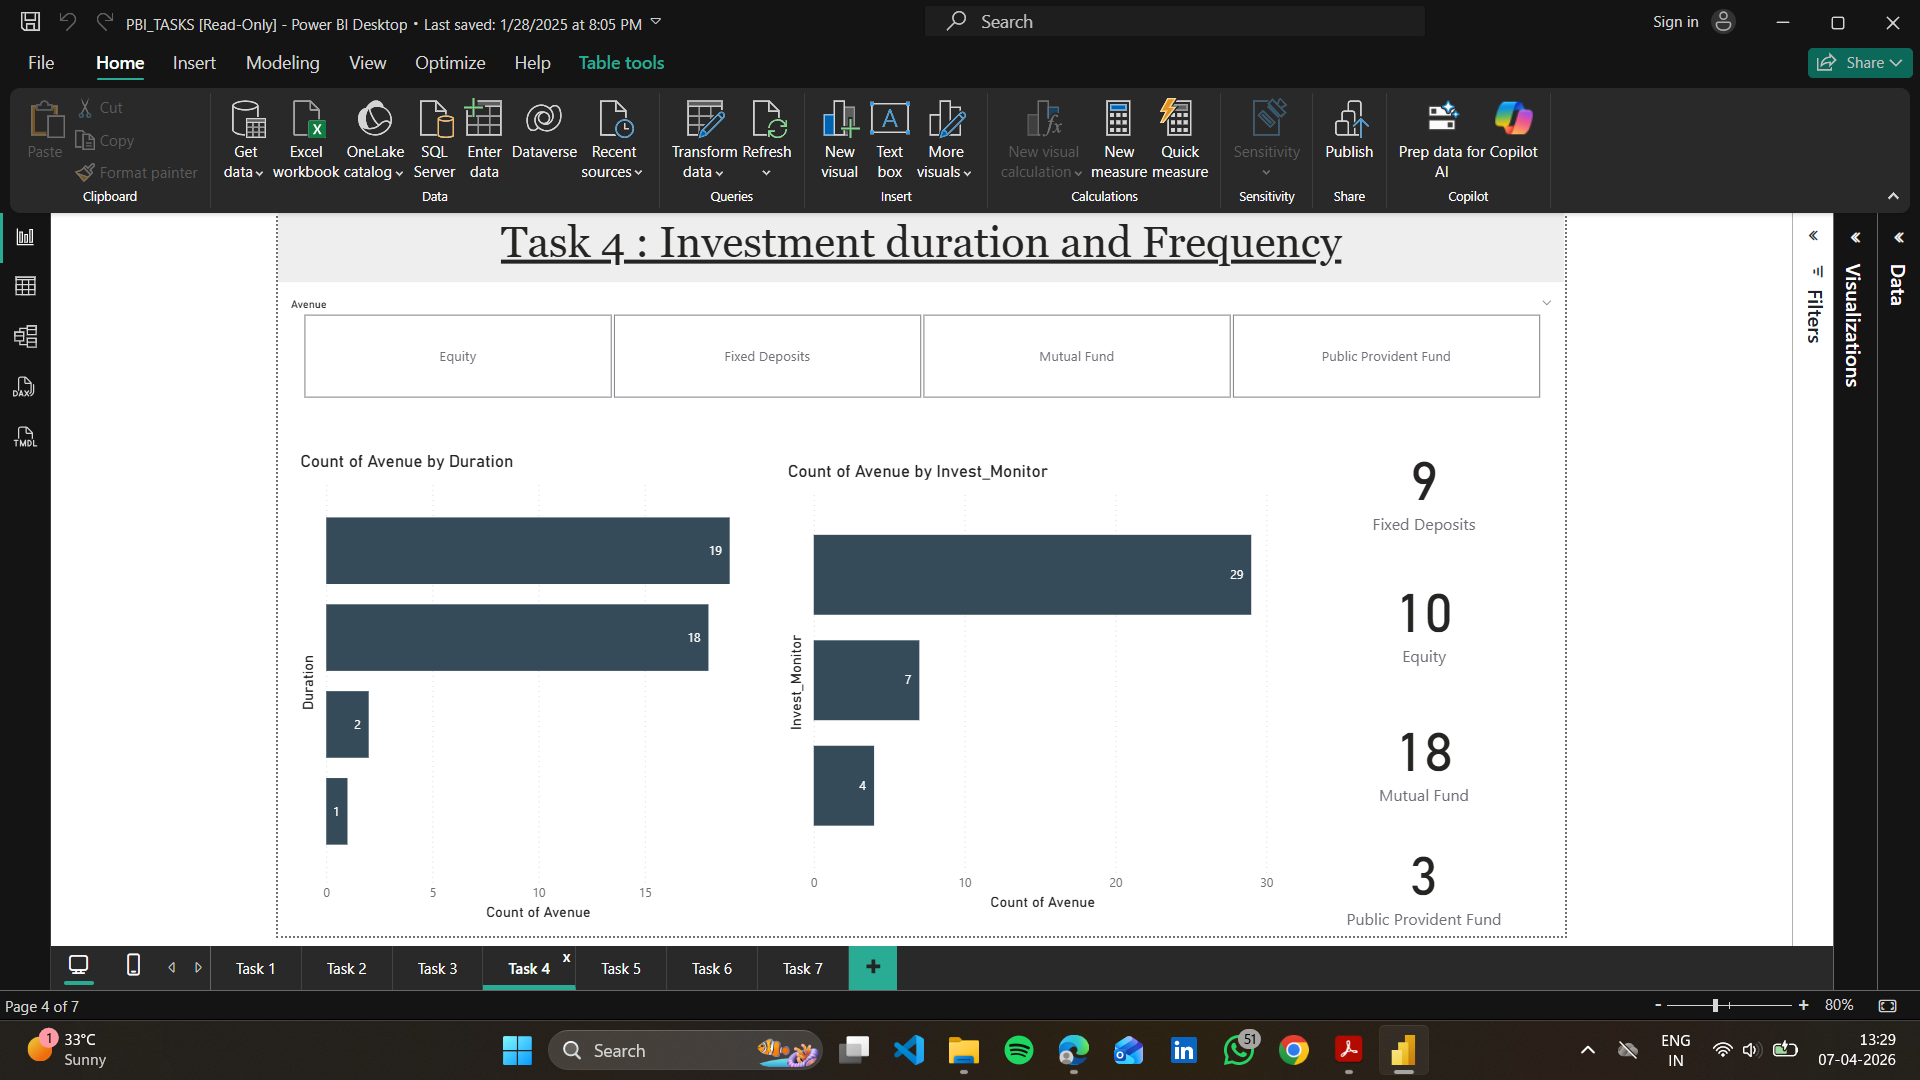

The page's visual inventory and layout, read from the dashboard file:
{"tool":"powerbi","page":{"name":"Task 4","canvas":[1280,720],"ordinal":3},"visuals":[{"type":"textbox","box":[0,0,1280,68.4],"z":0},{"type":"clusteredBarChart","fields":{"Category":["Data_set 2.Duration"],"Y":["CountNonNull(Data_set 2.Avenue)"]},"box":[17.4,236.4,465.2,472.7],"z":1000},{"type":"clusteredBarChart","fields":{"Y":["CountNonNull(Data_set 2.Avenue)"],"Category":["Data_set 2.Invest_Monitor"]},"box":[502.6,246.3,498.8,452.8],"z":2000},{"type":"slicer","fields":{"Values":["Data_set 2.Avenue"]},"box":[0,79.6,1280,110.7],"z":3000},{"type":"card","fields":{"Values":["Data_set 2.Fixed Deposits"]},"box":[1001.4,214,278.6,113.2],"z":4000},{"type":"card","fields":{"Values":["Data_set 2.Equity"]},"box":[1001.4,345.8,278.6,113.2],"z":5000},{"type":"card","fields":{"Values":["Data_set 2.Mutual Fund"]},"box":[1001.4,483.9,278.6,113.2],"z":6000},{"type":"card","fields":{"Values":["Data_set 2.Public Provident Fund"]},"box":[1001.4,607.1,278.6,113.2],"z":7000}]}

Visuals, with their boxes on the page's 1280x720 design canvas (x1, y1, x2, y2). These are canvas units, not pixel positions in the 1920x1080 screenshot, which may show the page scaled, cropped or inside an application window:
textbox: detection(0, 0, 1280, 68)
clusteredBarChart - Data_set 2.Duration x CountNonNull(Data_set 2.Avenue): detection(17, 236, 483, 709)
clusteredBarChart - CountNonNull(Data_set 2.Avenue) x Data_set 2.Invest_Monitor: detection(503, 246, 1001, 699)
slicer - Data_set 2.Avenue: detection(0, 80, 1280, 190)
card - Data_set 2.Fixed Deposits: detection(1001, 214, 1280, 327)
card - Data_set 2.Equity: detection(1001, 346, 1280, 459)
card - Data_set 2.Mutual Fund: detection(1001, 484, 1280, 597)
card - Data_set 2.Public Provident Fund: detection(1001, 607, 1280, 720)
